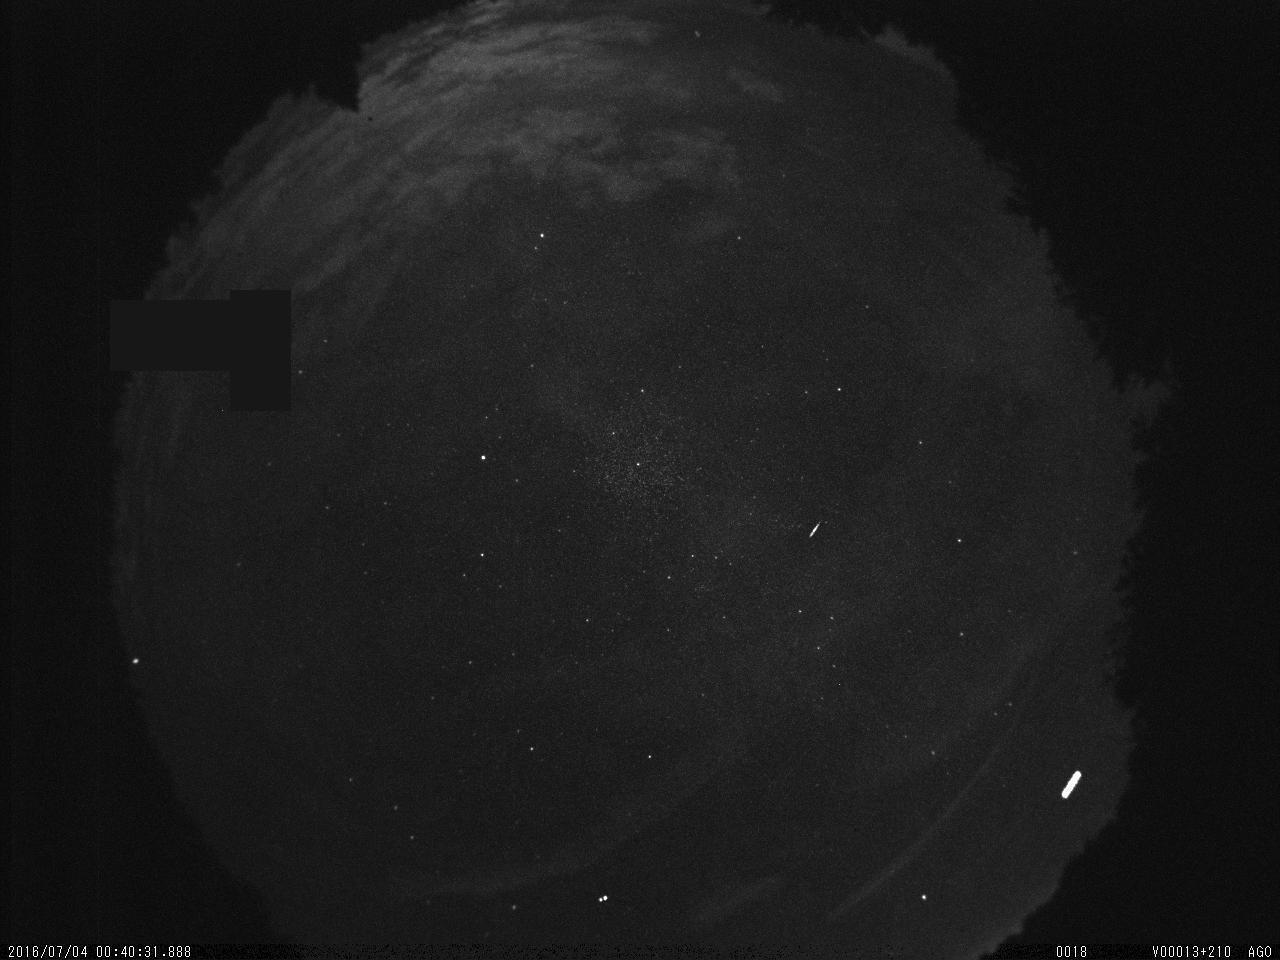Meteor: (800, 514, 830, 548)
